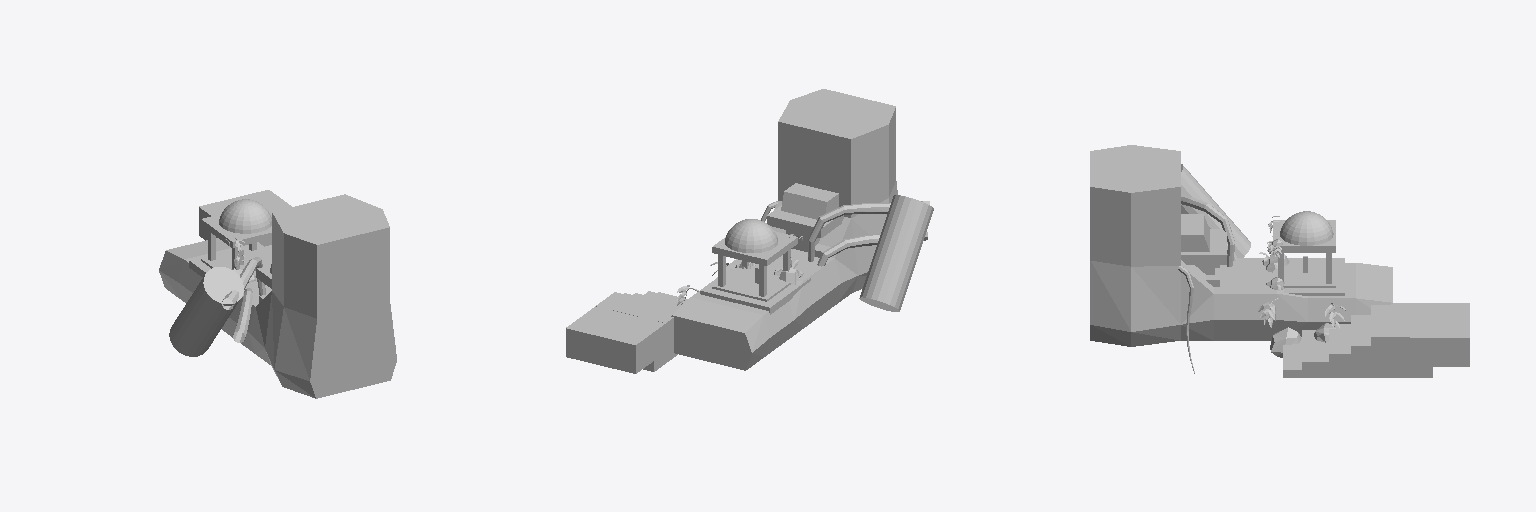
3 views of the same model, side by side, from view 1: azimuth 30°, elevation 25°; view 2: azimuth 150°, elevation 25°; view 3: azimuth 270°, elevation 25° (orthographic).
Visible parts, largest first — view 1: pCube2, pCylinder1, pSphere1, pCube24, pCube9, pCube7, sweep11, sweep12; view 2: pCube2, pCylinder1, pCube24, pCube31, pSphere1, pCube22, pCube7, pCube8, pCube9, pCube28, sweep11, sweep12 (+1 smaller); view 3: pCube2, pCube24, pCube23, pCube22, pSphere1, pCylinder1, pCube7, pCube19, pCube18, pCube31, pCube28, pCube20 (+5 smaller).
Part boxes in pixels (left/top/right/bottom): pCube2: left=159, top=194, right=396, bottom=398; pCylinder1: left=169, top=267, right=243, bottom=356; pSphere1: left=219, top=199, right=271, bottom=233; pCube24: left=199, top=190, right=291, bottom=240; pCube9: left=201, top=214, right=271, bottom=247; pCube7: left=201, top=247, right=271, bottom=276; sweep11: left=221, top=257, right=265, bottom=309; sweep12: left=233, top=288, right=252, bottom=342; pCube2: left=671, top=89, right=897, bottom=370; pCylinder1: left=859, top=195, right=933, bottom=311; pCube24: left=566, top=306, right=673, bottom=373; pCube31: left=781, top=183, right=838, bottom=219; pSphere1: left=725, top=219, right=777, bottom=252; pCube22: left=596, top=292, right=678, bottom=329; pCube7: left=712, top=266, right=790, bottom=301; pCube8: left=700, top=268, right=810, bottom=314; pCube9: left=712, top=231, right=797, bottom=265; pCube28: left=767, top=205, right=843, bottom=237; sweep11: left=808, top=201, right=929, bottom=261; sweep12: left=817, top=232, right=927, bottom=266; pCube2: left=1090, top=145, right=1392, bottom=346; pCube24: left=1388, top=303, right=1469, bottom=366; pCube23: left=1352, top=349, right=1432, bottom=377; pCube22: left=1371, top=303, right=1409, bottom=345; pSphere1: left=1280, top=211, right=1333, bottom=245; pCylinder1: left=1181, top=164, right=1250, bottom=257; pCube7: left=1273, top=260, right=1335, bottom=287; pCube19: left=1302, top=330, right=1351, bottom=369; pCube18: left=1283, top=337, right=1361, bottom=377; pCube31: left=1181, top=214, right=1209, bottom=251; pCube28: left=1181, top=229, right=1226, bottom=264; pCube20: left=1329, top=324, right=1366, bottom=361.
Bounding box in the file's own units: 2666 × 2094 × 4064.